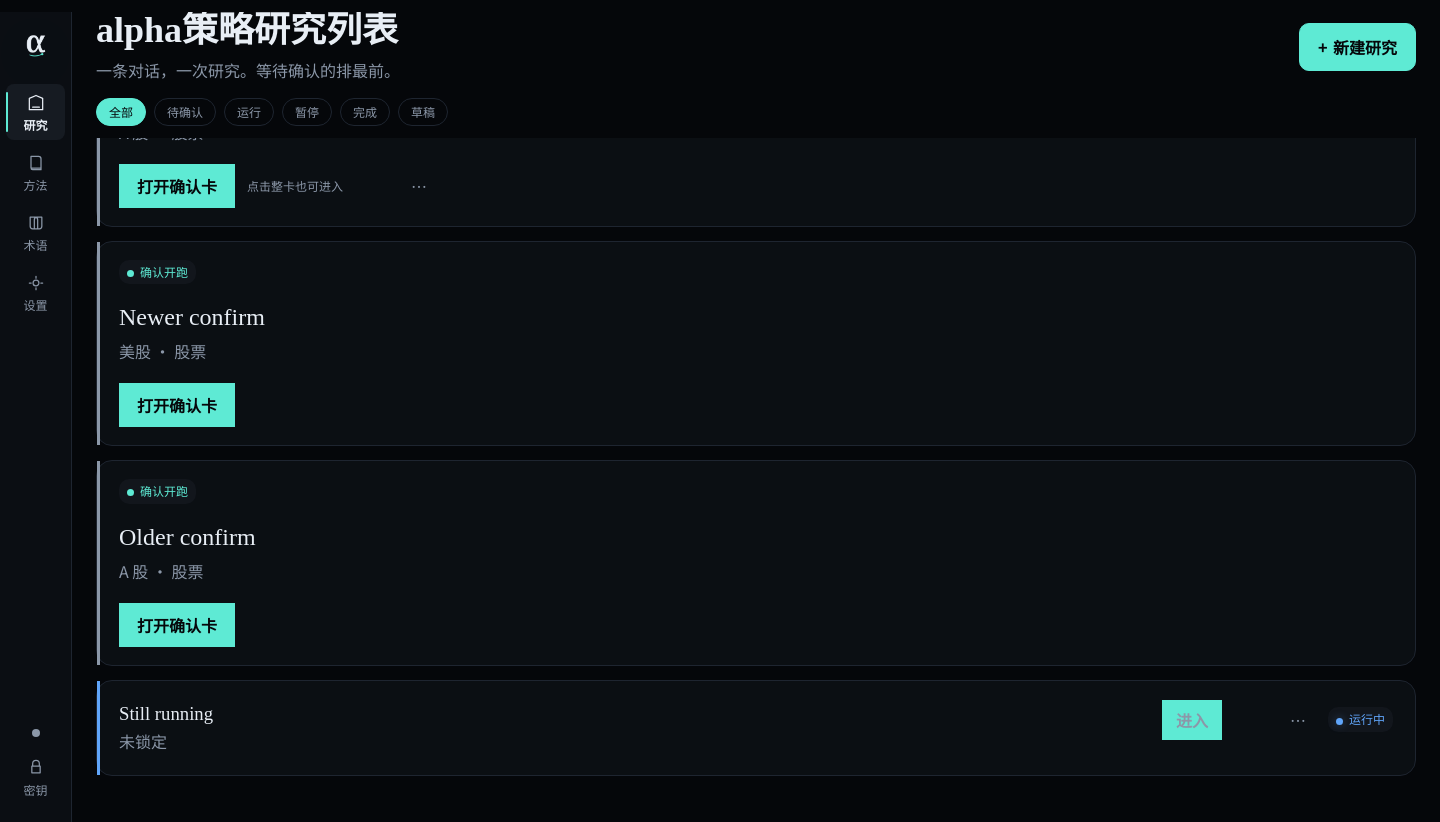
Scenario: multiple confirm cards stay bound to their research id › does not show a confirm card whose research id differs from the route
The image size is (1440, 822).
(page scrolled)
Click the link "打开确认卡" below "Older confirm" at coordinates (177, 625), box x1=119 y1=603 x2=235 y2=647
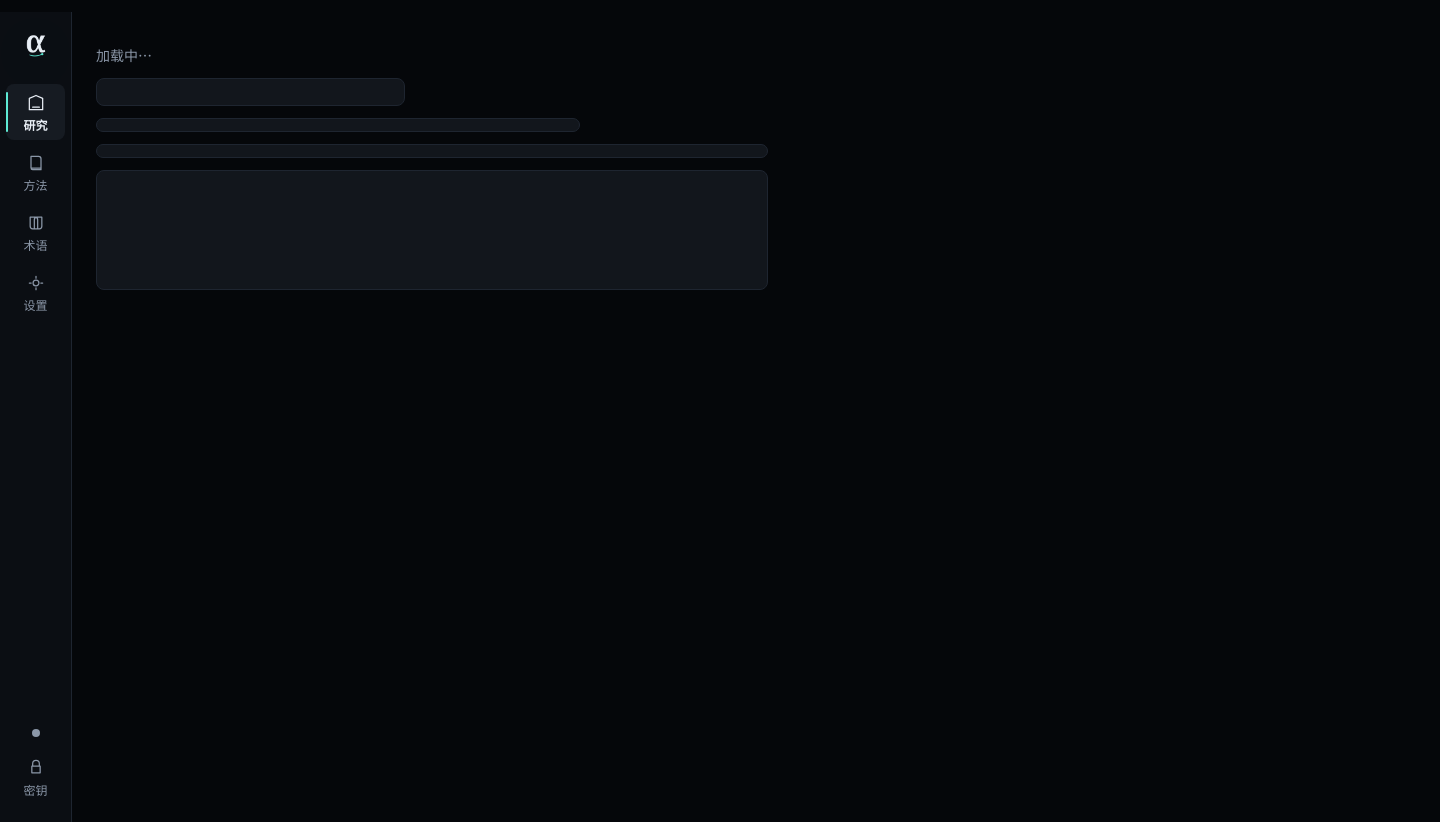
Expected: the message "加载中…" is shown, x1=72 y1=44 x2=792 y2=322
